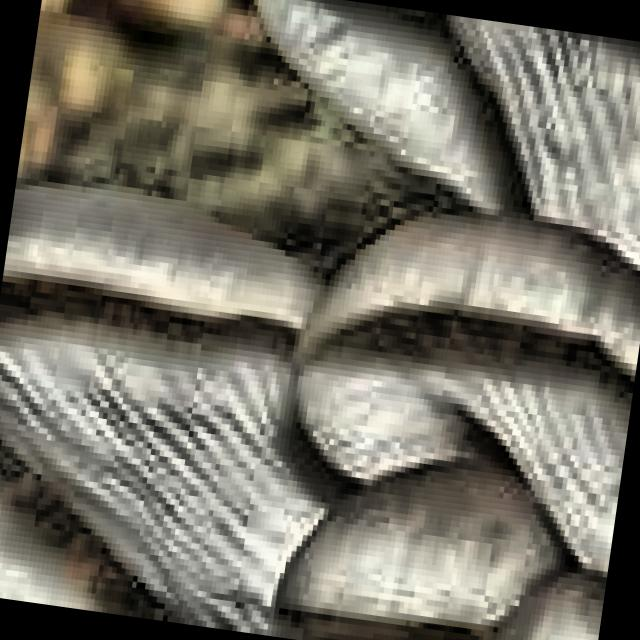Healthy: (0, 235, 438, 595), (291, 0, 640, 231)
